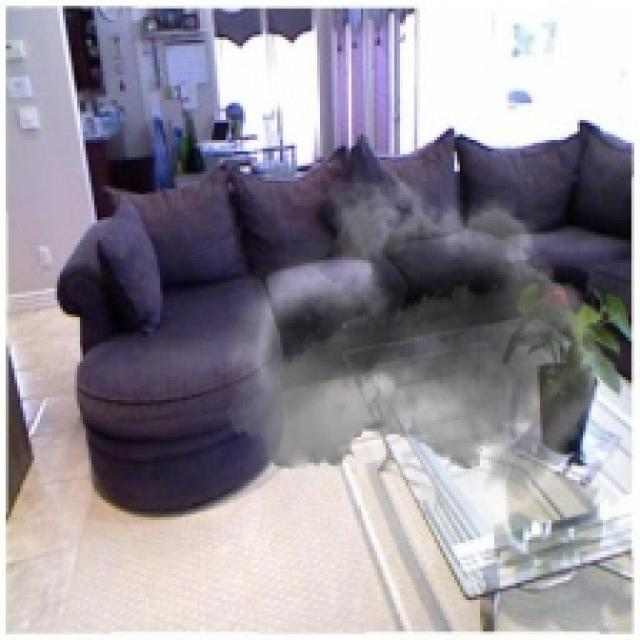smoke: (226, 157, 631, 583)
